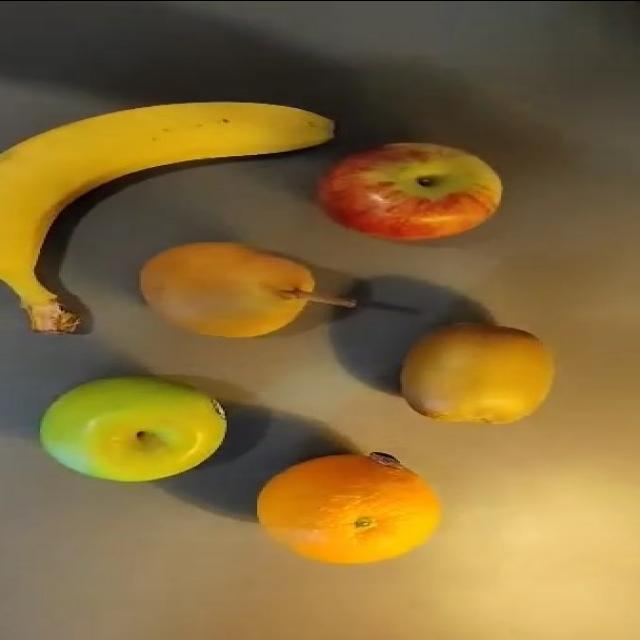Apple: (38, 374, 227, 483), (316, 140, 503, 242)
Banana: (0, 99, 336, 333)
Orange: (255, 450, 442, 565)
